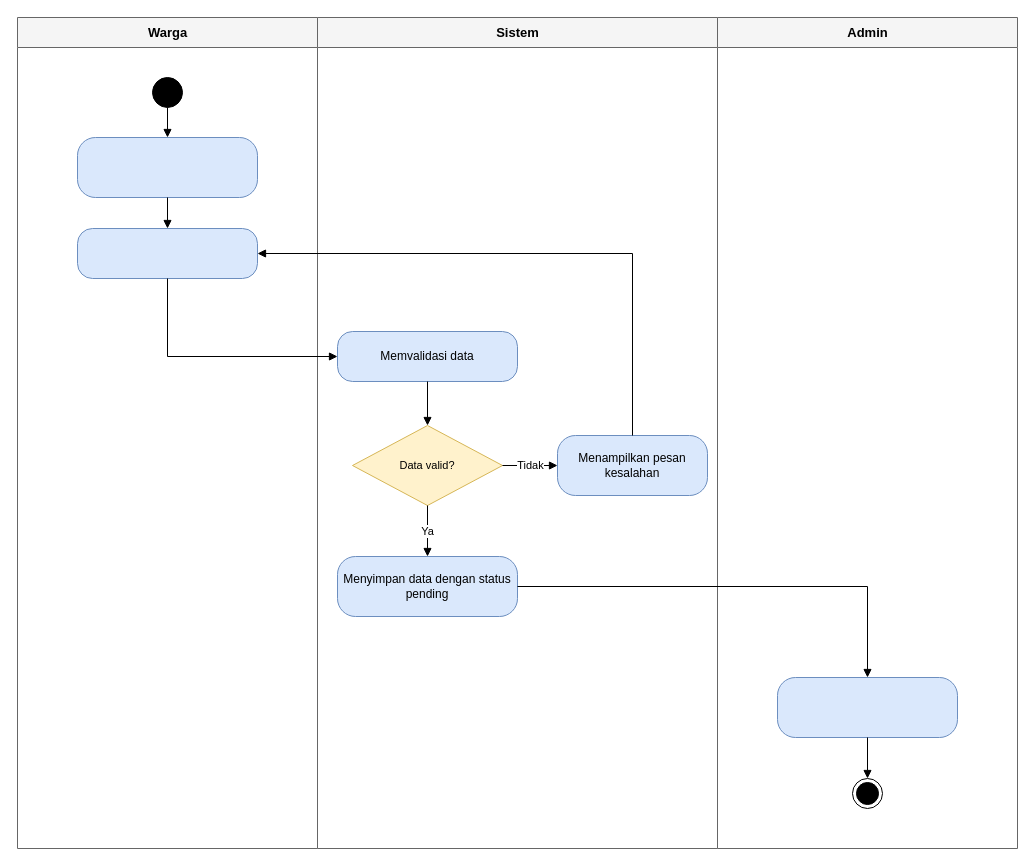
Some shapes in this 1035 by 866 pixel diagram are drawn without their labels. The centre of each missing label's shape, as x and y in pixels:
"Membuka halaman registrasi" goes at pixel 167 167.
"Memverifikasi akun warga" goes at pixel 867 707.
"Mengisi form data diri" goes at pixel 167 253.
